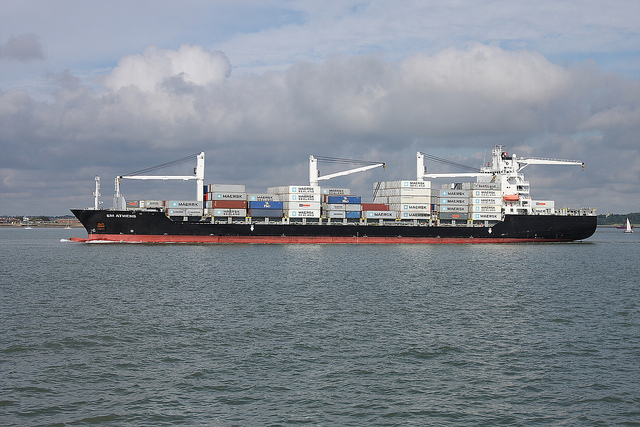container_ship: (69, 151, 602, 245)
